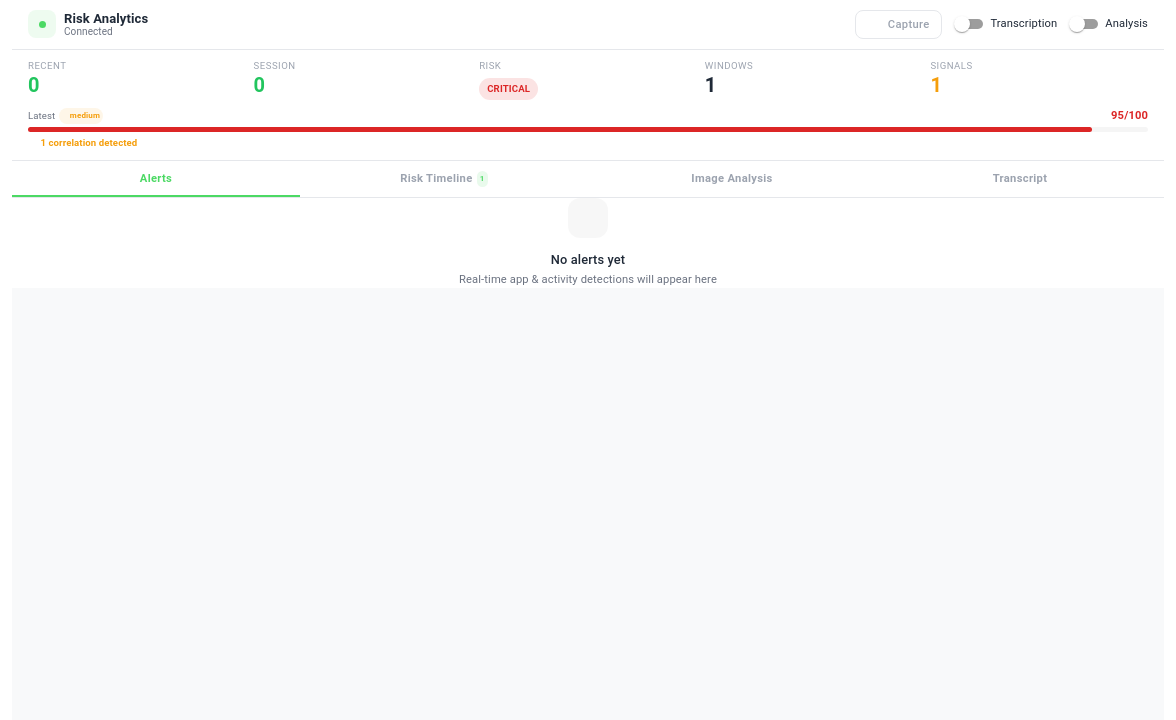
Test case: AnalyticsPanel › Analysis tab renders a single WindowCard (auto-expanded latest) with full breakdown
Click the tab "Risk Timeline 1". click: x=444, y=179
box: [300,161,588,197]
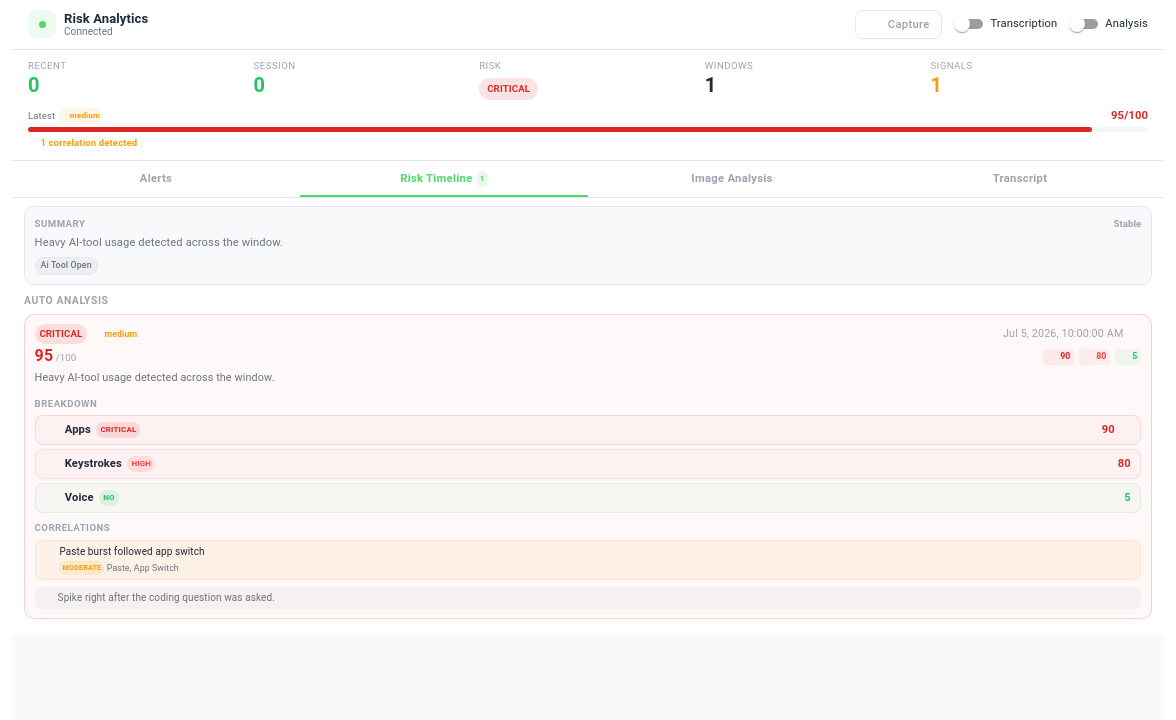
Expected: the text "Auto Analysis" is shown, [24,294,108,307]
Expected: the text "Heavy AI-tool usage detected across the window." below "Summary" is shown, [35,236,283,249]
Expected: the text "Apps" is shown
Note: Expand a ModalityCard to reveal its signals/evidence/summary
Click the text "Apps". click: x=78, y=430
box: [65,422,91,439]
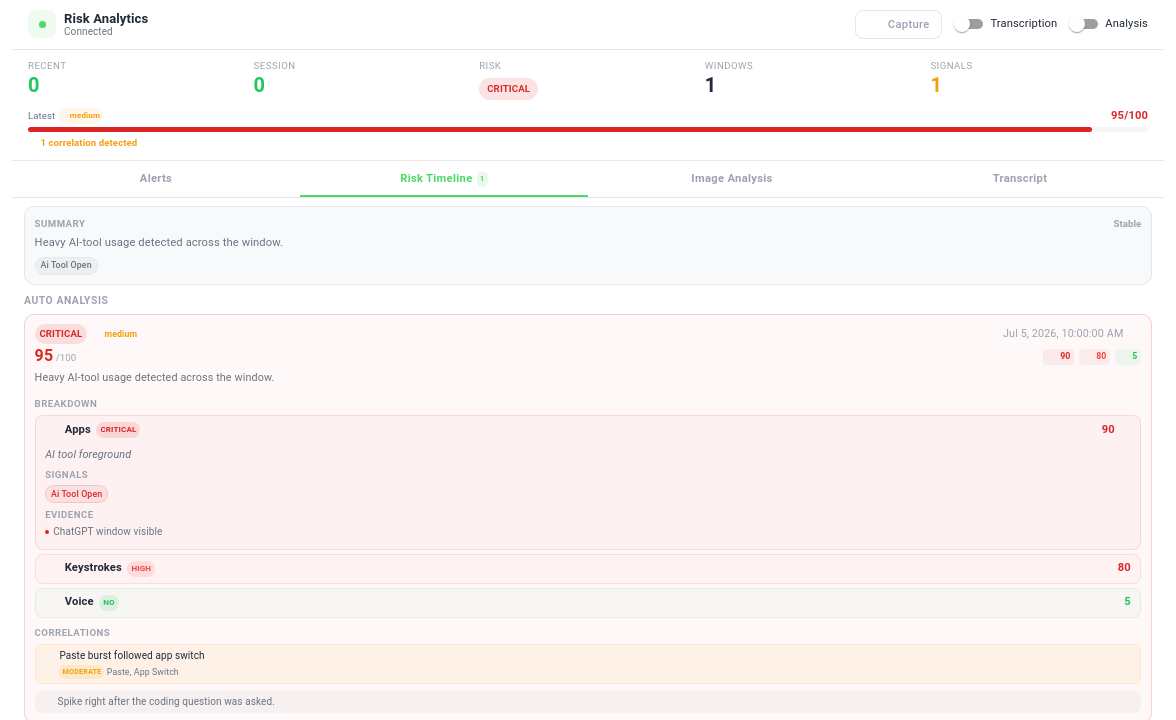
Expected: the text "AI tool foreground" is shown, [45,448,131,461]
Expected: the text "Evidence" is shown, [45,509,94,520]
Expected: the text "ChatGPT window visible" is shown, [53,525,162,539]
